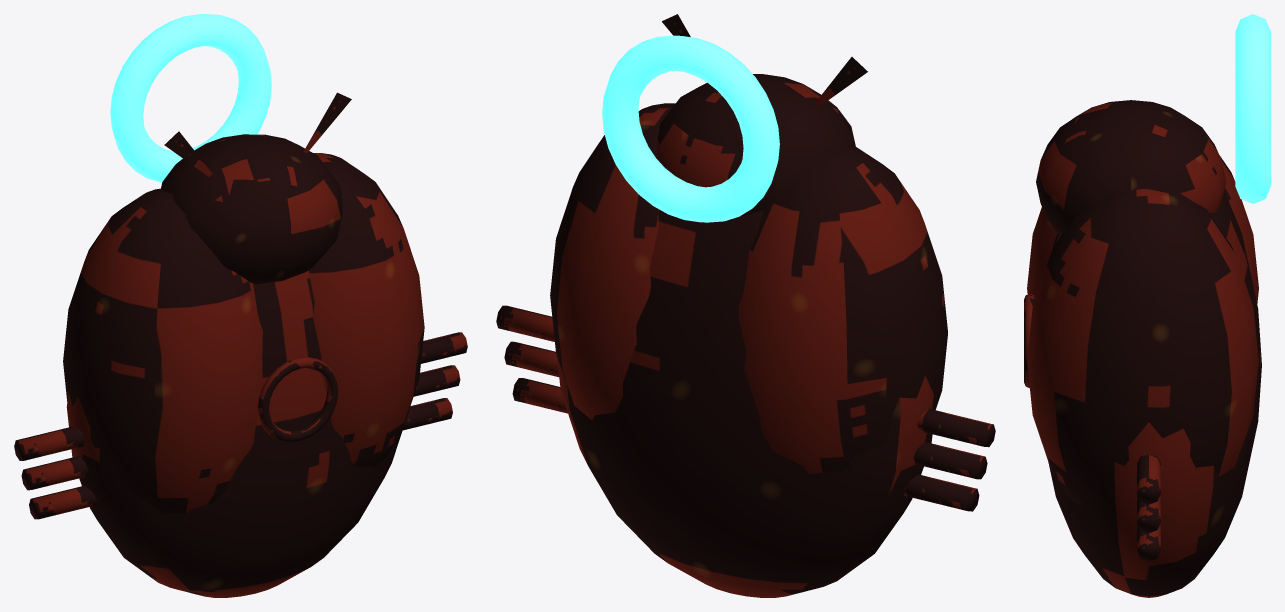
File: scarab_amulet_pattern_cinnabar.fbx
3 renders of one model, left to right at view 1: azimuth 30°, elevation 25°; view 2: azimuth 150°, elevation 25°; view 3: azimuth 270°, elevation 25°, orthographic. The views are drawn at different scales.
Parts seen in each view (by area): view 1: TH10_Scarab_Elytron, TH10_Scarab_Core, TH10_Scarab_Elytron.001, TH10_Scarab_Head, TH10_Scarab_Handle, TH10_Scarab_Scar, TH10_Scarab_Leg.002, TH10_Scarab_Leg, TH10_Scarab_Leg.001, TH10_Scarab_Leg.003, TH10_Scarab_Leg.005, TH10_Scarab_Leg.004 (+2 smaller); view 2: TH10_Scarab_Core, TH10_Scarab_Elytron, TH10_Scarab_Elytron.001, TH10_Scarab_Handle, TH10_Scarab_Head, TH10_Scarab_Leg.002, TH10_Scarab_Leg, TH10_Scarab_Leg.001, TH10_Scarab_Leg.005, TH10_Scarab_Leg.004, TH10_Scarab_Leg.003, TH10_Scarab_Antenna; view 3: TH10_Scarab_Elytron.001, TH10_Scarab_Core, TH10_Scarab_Head, TH10_Scarab_Handle, TH10_Scarab_Elytron, TH10_Scarab_Leg.005, TH10_Scarab_Leg.003, TH10_Scarab_Leg.004, TH10_Scarab_Scar.
Boxes of the visible parts, bbox=[...] form: TH10_Scarab_Elytron: bbox=[63, 188, 263, 513]; TH10_Scarab_Core: bbox=[66, 270, 408, 597]; TH10_Scarab_Elytron.001: bbox=[308, 153, 424, 467]; TH10_Scarab_Head: bbox=[161, 134, 342, 283]; TH10_Scarab_Handle: bbox=[110, 14, 271, 182]; TH10_Scarab_Scar: bbox=[258, 357, 337, 441]; TH10_Scarab_Leg.002: bbox=[14, 426, 85, 460]; TH10_Scarab_Leg: bbox=[29, 486, 97, 519]; TH10_Scarab_Leg.001: bbox=[21, 456, 88, 490]; TH10_Scarab_Leg.003: bbox=[402, 398, 452, 430]; TH10_Scarab_Leg.005: bbox=[421, 332, 467, 363]; TH10_Scarab_Leg.004: bbox=[413, 365, 460, 396]; TH10_Scarab_Core: bbox=[557, 209, 935, 597]; TH10_Scarab_Elytron: bbox=[738, 144, 947, 473]; TH10_Scarab_Elytron.001: bbox=[550, 103, 675, 420]; TH10_Scarab_Handle: bbox=[602, 35, 779, 222]; TH10_Scarab_Head: bbox=[656, 74, 855, 215]; TH10_Scarab_Leg.002: bbox=[917, 409, 995, 447]; TH10_Scarab_Leg: bbox=[904, 474, 979, 511]; TH10_Scarab_Leg.001: bbox=[913, 442, 987, 479]; TH10_Scarab_Leg.005: bbox=[496, 305, 554, 341]; TH10_Scarab_Leg.004: bbox=[504, 341, 559, 377]; TH10_Scarab_Leg.003: bbox=[512, 378, 567, 413]; TH10_Scarab_Antenna: bbox=[814, 57, 867, 106]; TH10_Scarab_Elytron.001: bbox=[1027, 186, 1258, 506]; TH10_Scarab_Core: bbox=[1048, 192, 1261, 597]; TH10_Scarab_Head: bbox=[1036, 100, 1226, 236]; TH10_Scarab_Handle: bbox=[1235, 14, 1270, 203]; TH10_Scarab_Elytron: bbox=[1027, 155, 1258, 303]; TH10_Scarab_Leg.005: bbox=[1137, 454, 1160, 504]; TH10_Scarab_Leg.003: bbox=[1137, 523, 1160, 561]; TH10_Scarab_Leg.004: bbox=[1137, 494, 1160, 532]; TH10_Scarab_Scar: bbox=[1024, 293, 1035, 388].
Size of the model in its own units: 0.179 by 0.208 by 0.083.
2 materials, 1 textured.
